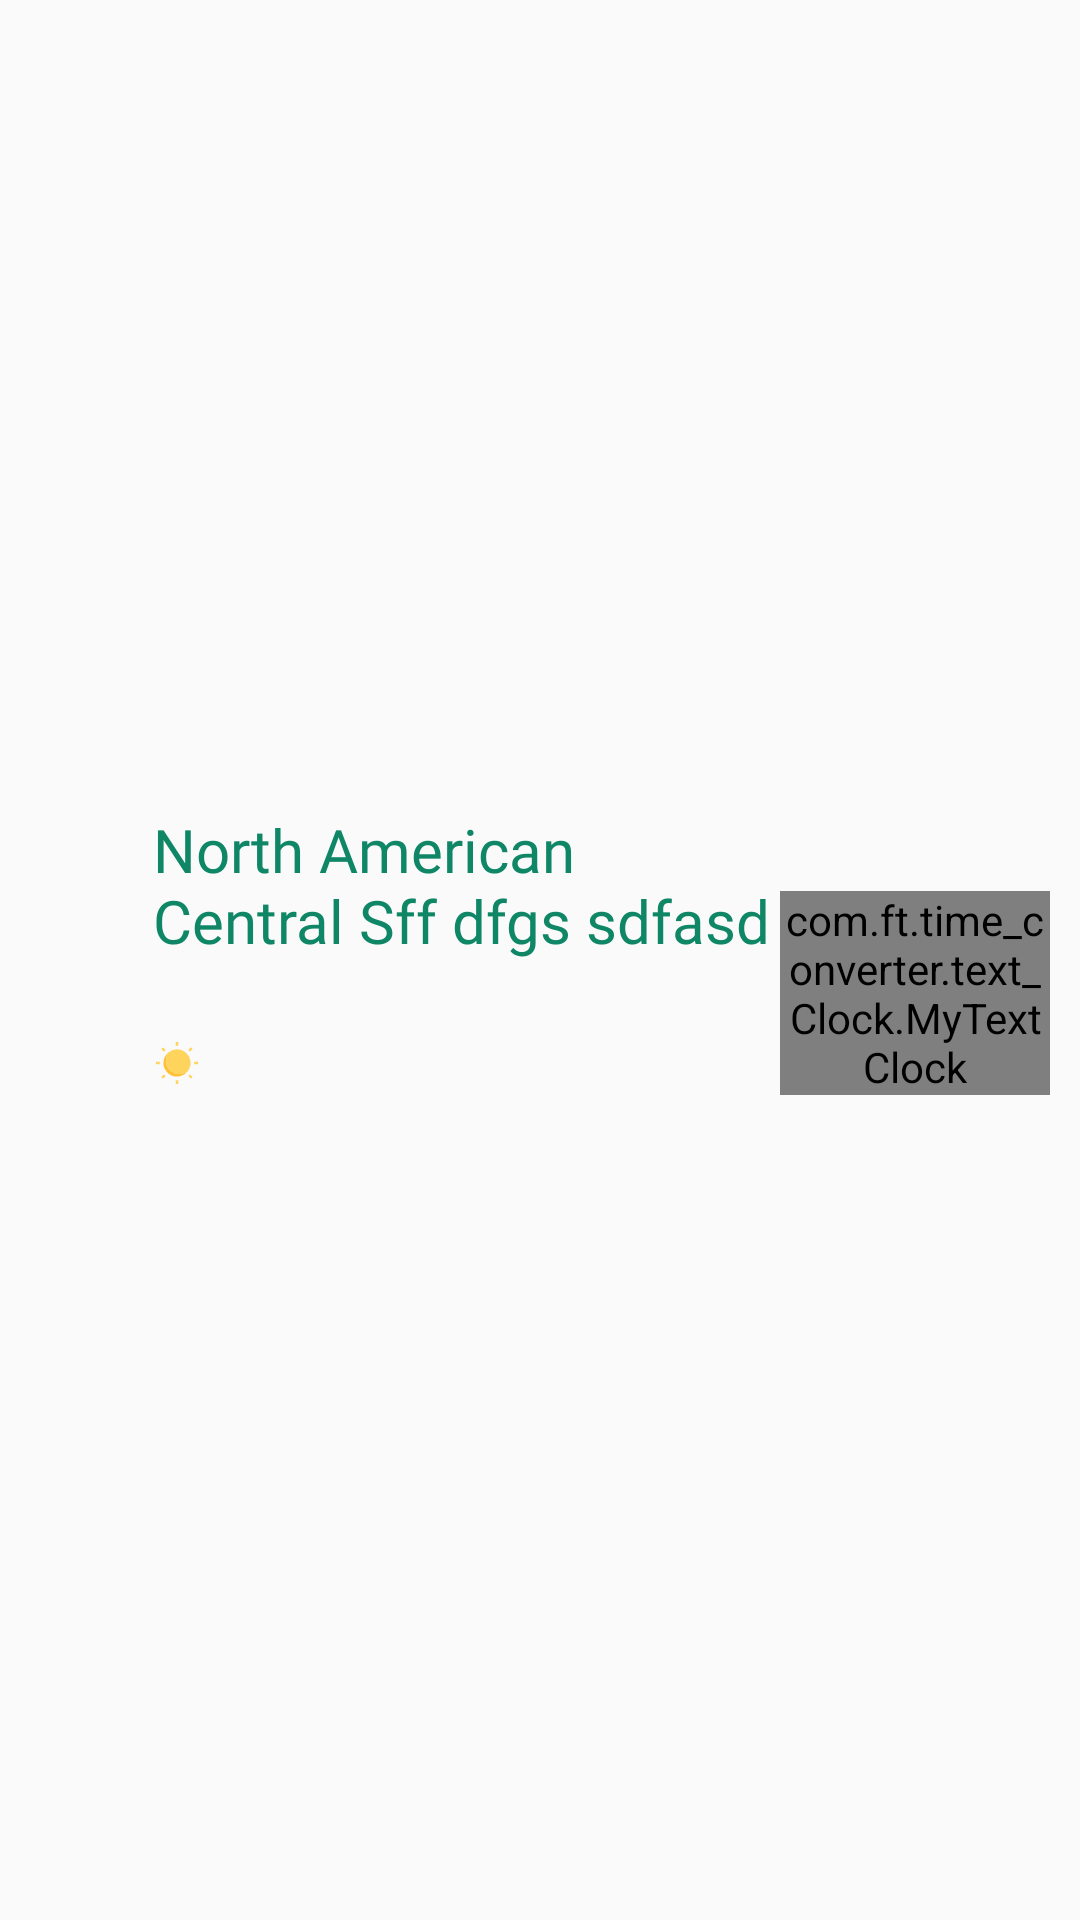

Icons on this 1080 x 1920 Android screen, each with its box as bbox=(x1, y1, x2, y2):
sun: bbox=(156, 1042, 198, 1084)
